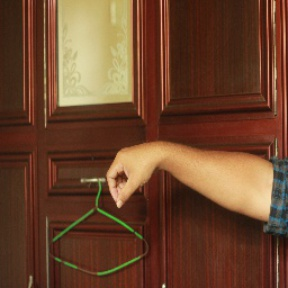O: (103, 142, 157, 207)
